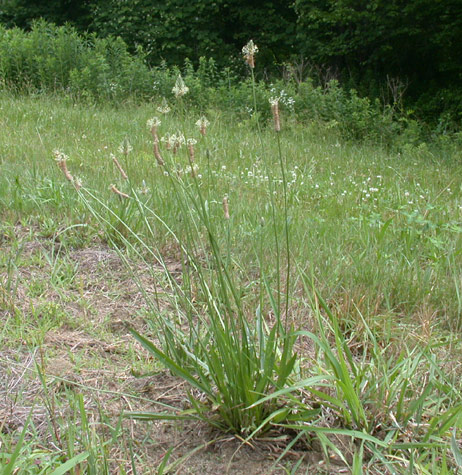buckhorn plantain: (53, 45, 317, 429)
